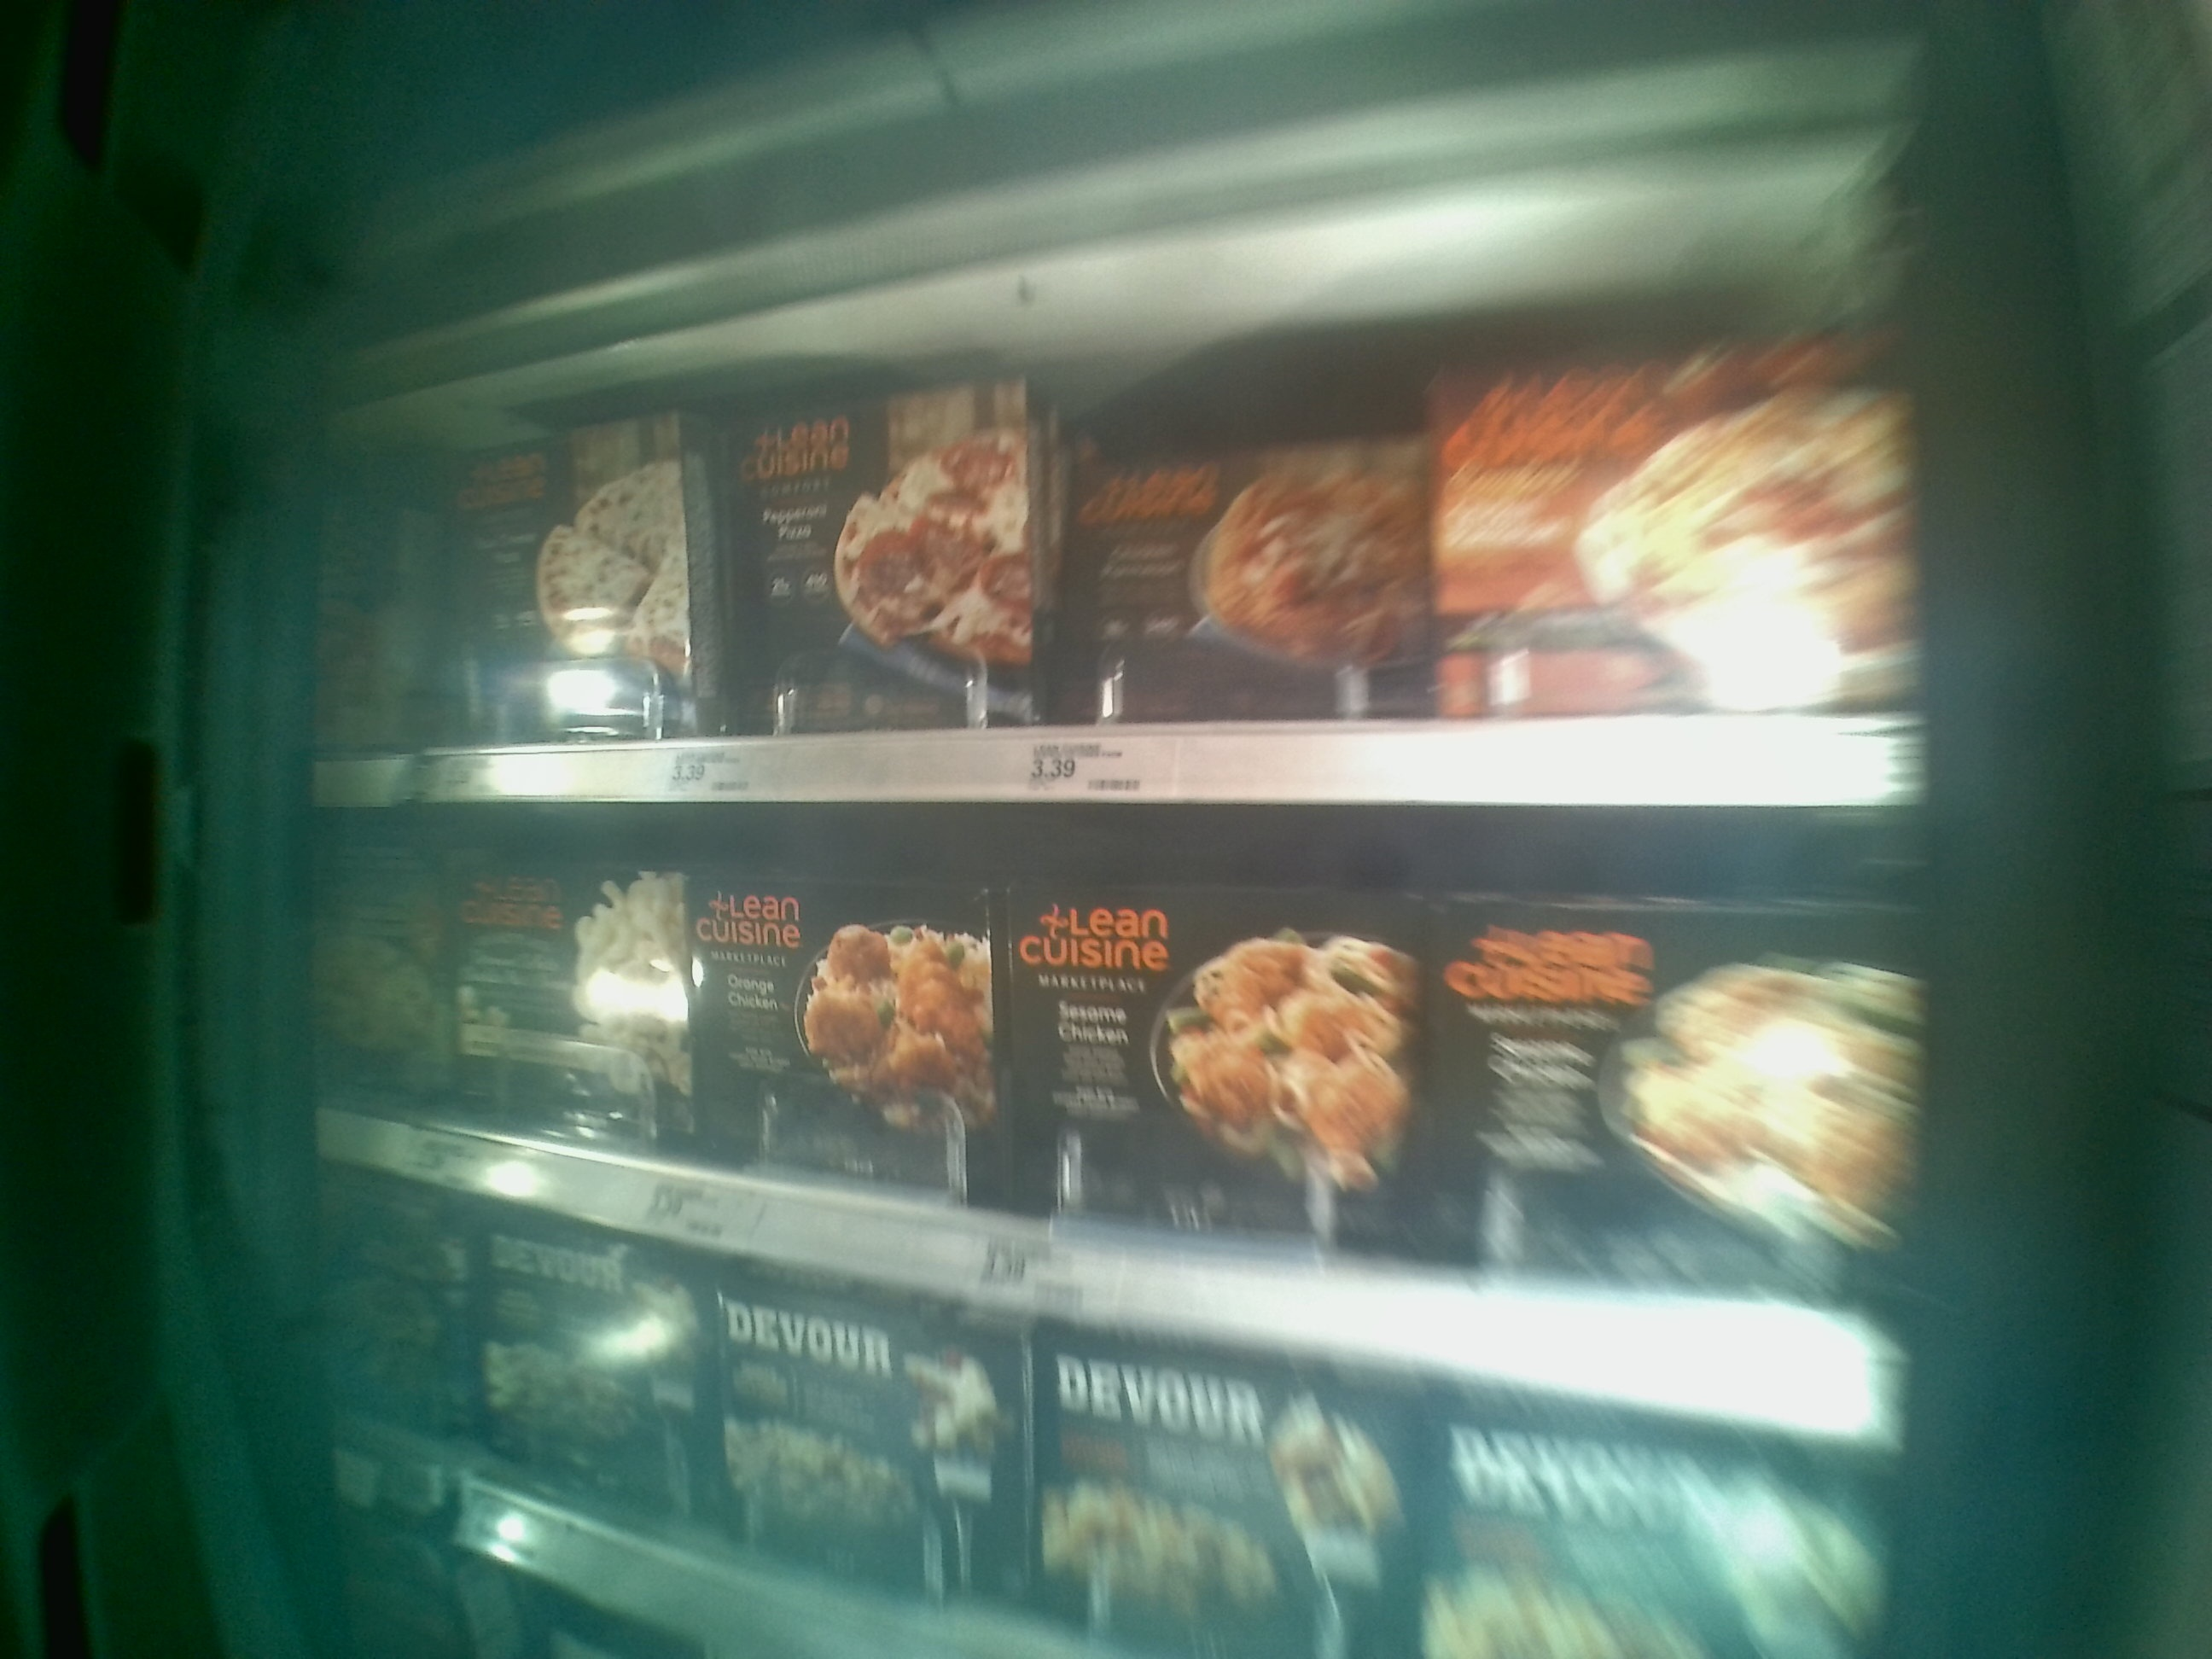pizza: (1416, 908, 1918, 1295), (1435, 350, 1911, 708), (995, 889, 1399, 1211), (721, 382, 1038, 721), (1064, 427, 1416, 723), (707, 1297, 1000, 1615), (698, 878, 998, 1182), (411, 415, 698, 727), (448, 863, 693, 1140), (469, 1234, 707, 1504)
